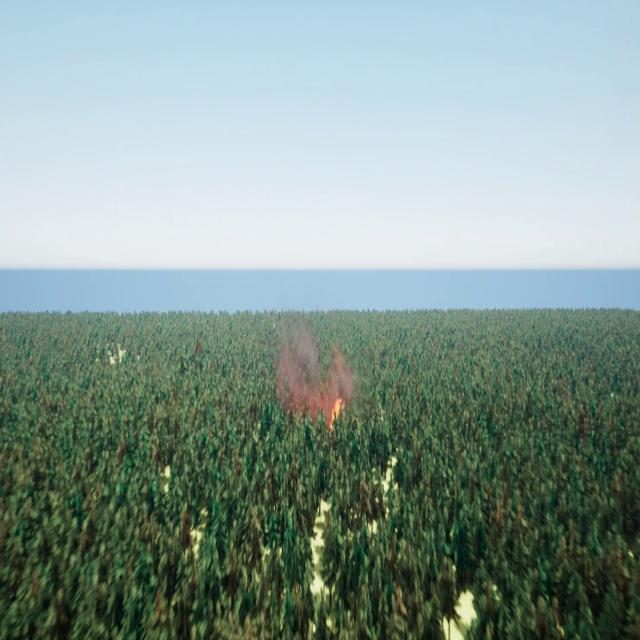fire: (329, 394, 346, 424)
smoke: (275, 312, 355, 429)
